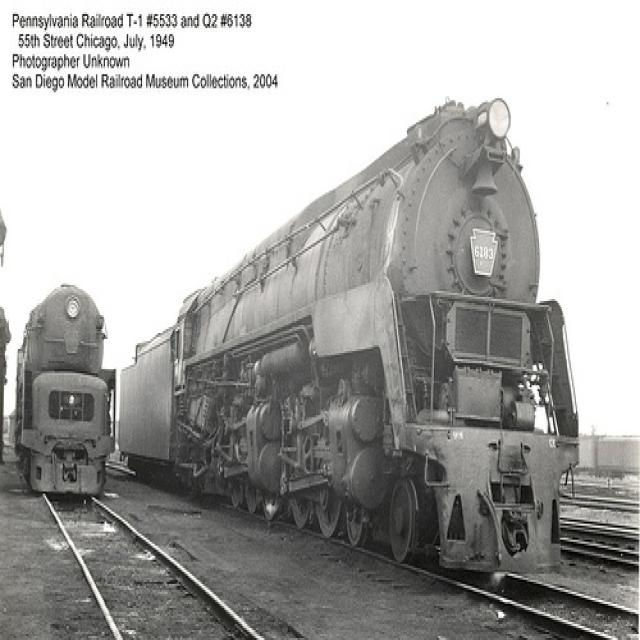train: (112, 96, 584, 582), (12, 283, 118, 503)
